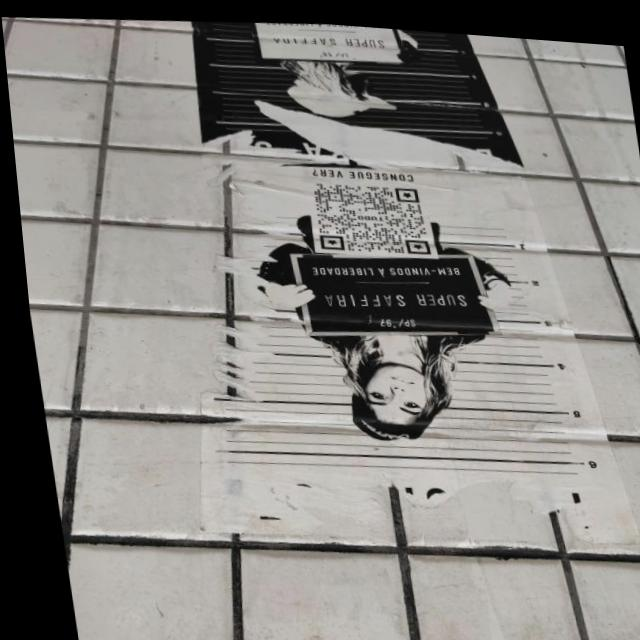qrcode: (309, 173, 427, 254)
